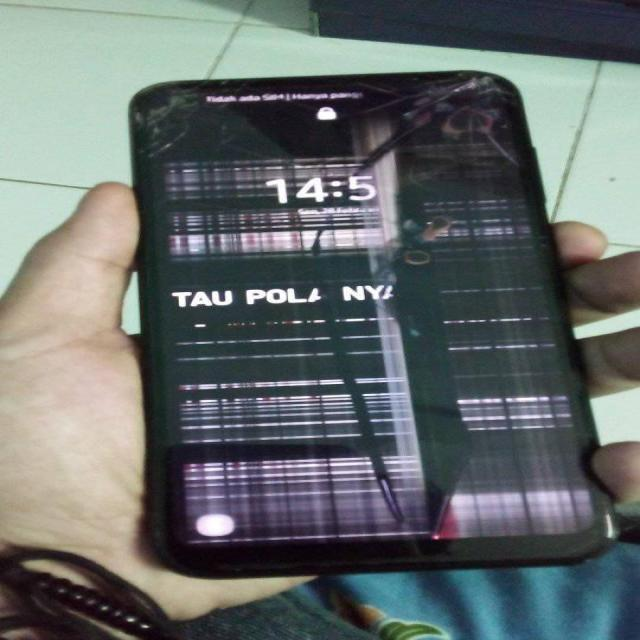phone: (121, 78, 631, 548)
